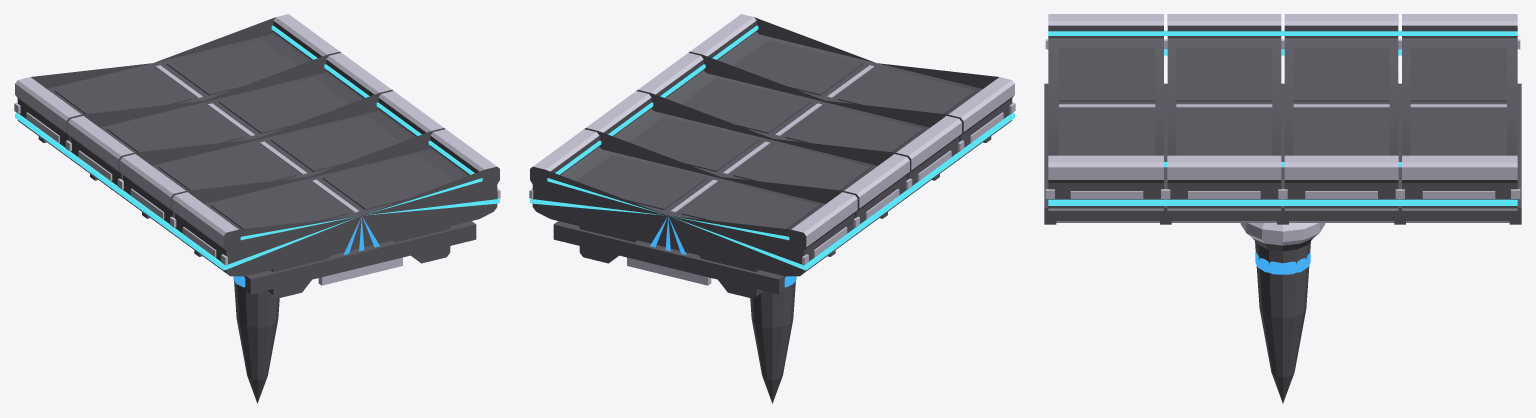
File: Bridge_Straight_4m_quest.glb
3 renders of one model, left to right at view 1: azimuth 30°, elevation 25°; view 2: azimuth 150°, elevation 25°; view 3: azimuth 270°, elevation 25°, orthographic. The views are drawn at different scales.
Parts seen in each view (by area): view 1: Bridge_Straight_4m_Deck, Bridge_Straight_4m_EdgeLight, Bridge_Straight_4m_Pylons, Bridge_Straight_4m_Conduits; view 2: Bridge_Straight_4m_Deck, Bridge_Straight_4m_EdgeLight, Bridge_Straight_4m_Pylons, Bridge_Straight_4m_Conduits; view 3: Bridge_Straight_4m_Deck, Bridge_Straight_4m_Pylons, Bridge_Straight_4m_EdgeLight, Bridge_Straight_4m_Conduits.
Part boxes in pixels (bbox=[...]): Bridge_Straight_4m_Deck: bbox=[14, 14, 500, 298]; Bridge_Straight_4m_EdgeLight: bbox=[15, 25, 499, 270]; Bridge_Straight_4m_Pylons: bbox=[234, 276, 279, 403]; Bridge_Straight_4m_Conduits: bbox=[233, 216, 379, 287]; Bridge_Straight_4m_Deck: bbox=[529, 14, 1015, 298]; Bridge_Straight_4m_EdgeLight: bbox=[530, 25, 1014, 270]; Bridge_Straight_4m_Pylons: bbox=[750, 276, 795, 403]; Bridge_Straight_4m_Conduits: bbox=[650, 216, 796, 287]; Bridge_Straight_4m_Deck: bbox=[1044, 14, 1521, 224]; Bridge_Straight_4m_Pylons: bbox=[1240, 223, 1325, 403]; Bridge_Straight_4m_EdgeLight: bbox=[1048, 30, 1517, 205]; Bridge_Straight_4m_Conduits: bbox=[1255, 252, 1310, 274].
Bounding box in the file's own units: 3.06 × 2.97 × 4.07.
